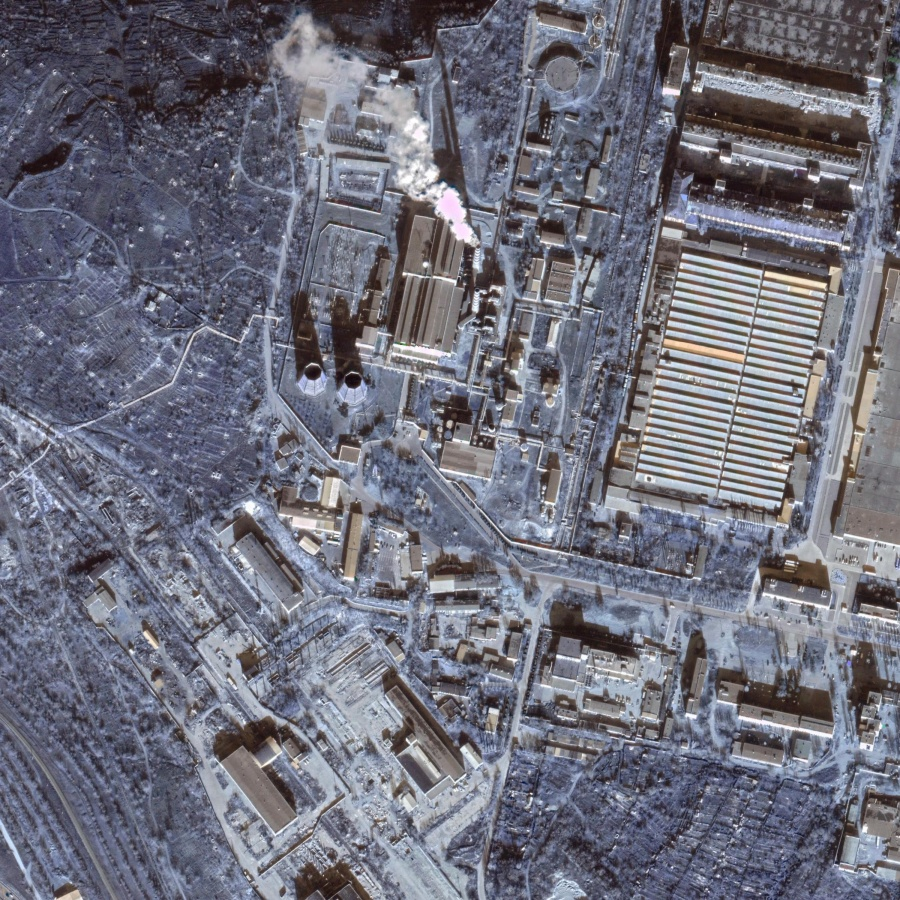PowerPlant: (284, 156, 507, 417)
